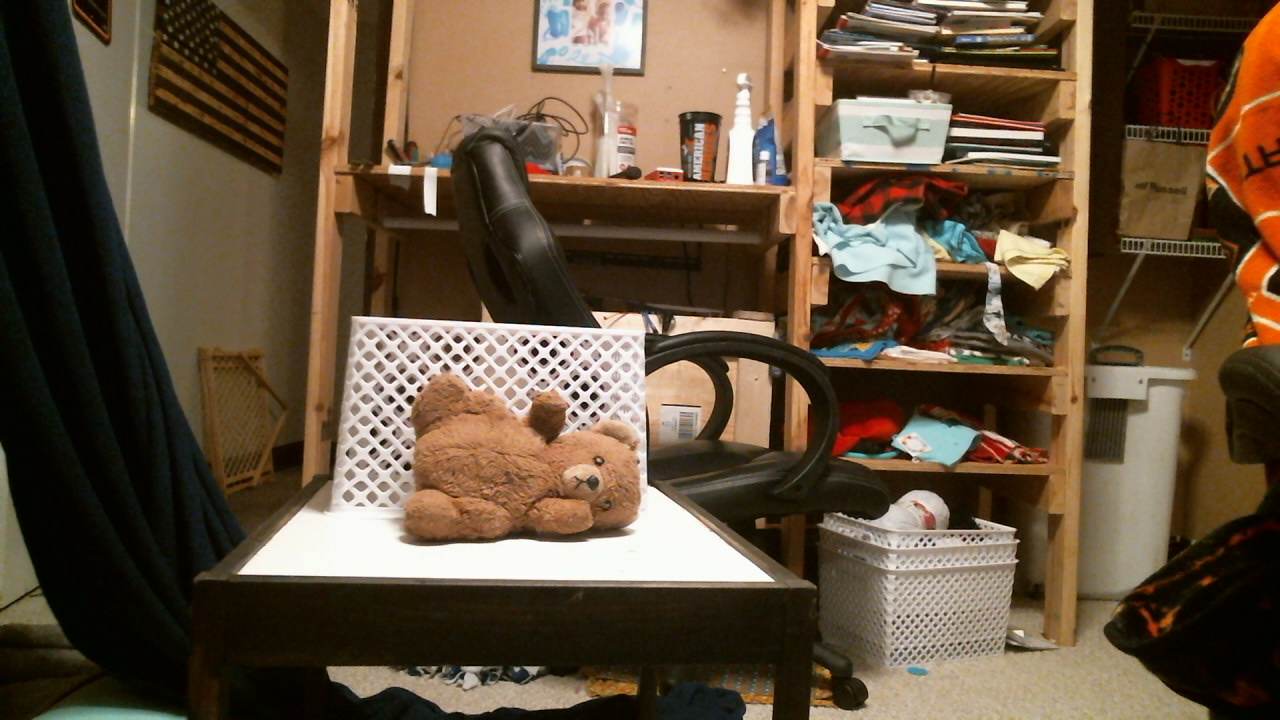Little_Mister_Bear: (551, 459, 640, 515)
